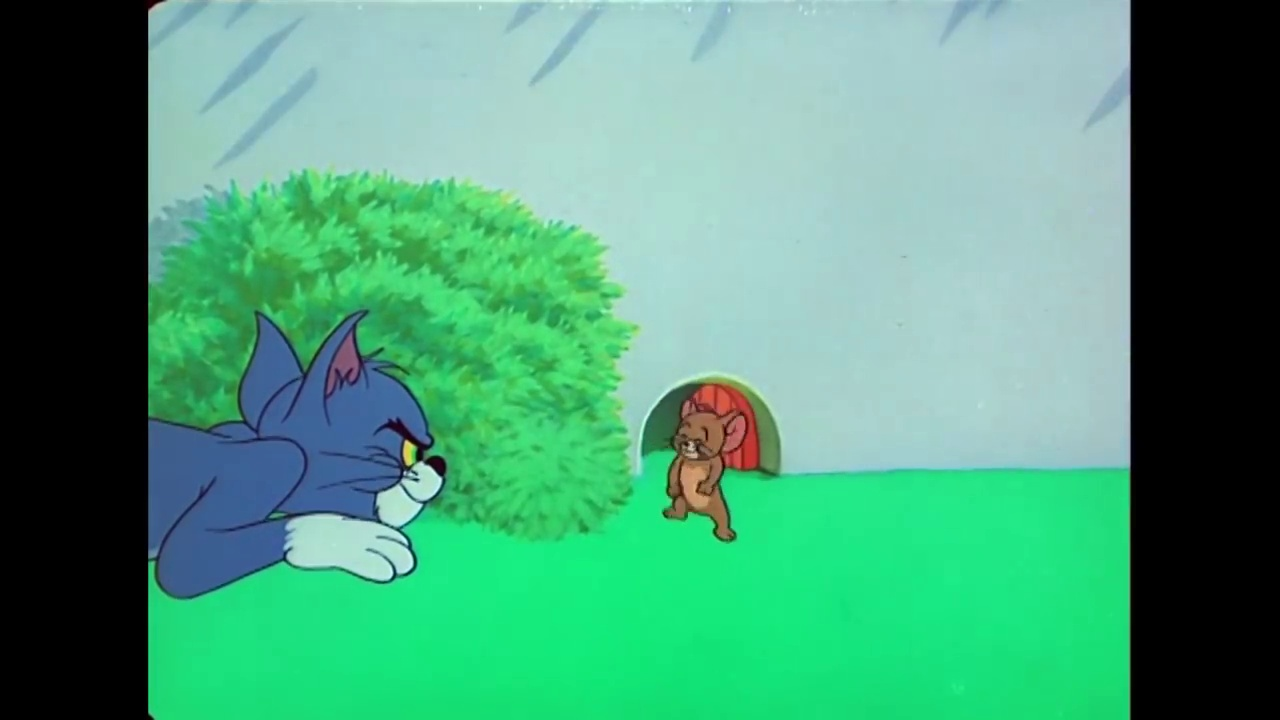tom: (232, 303, 451, 532)
